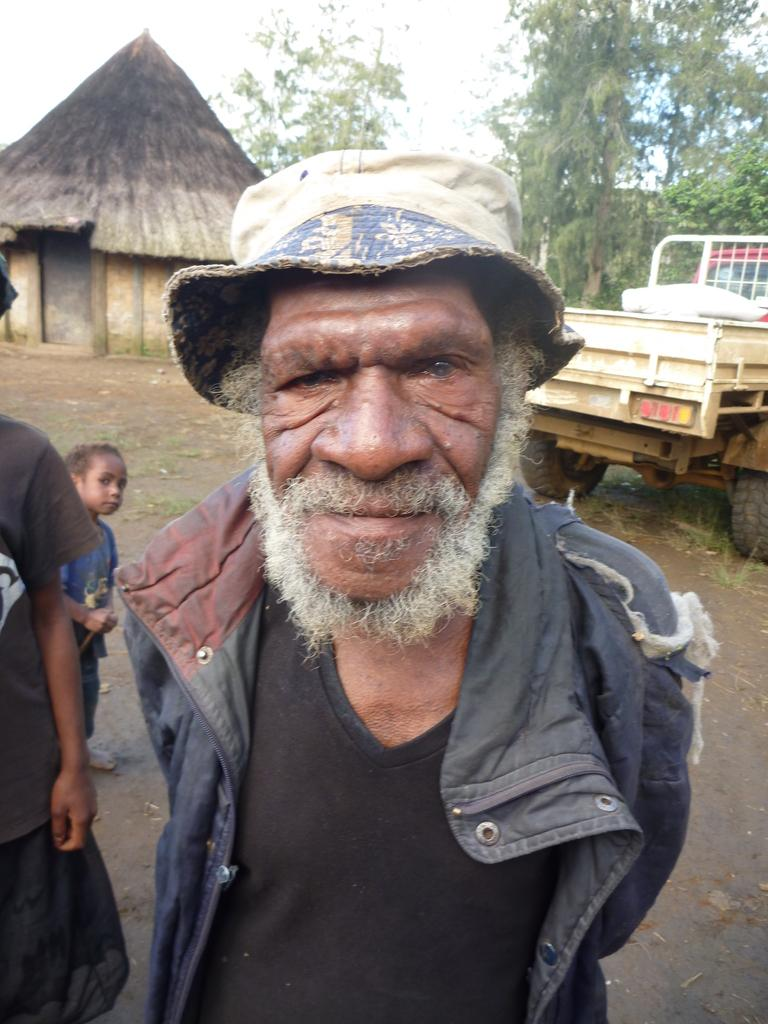Hat: (162, 154, 586, 414)
